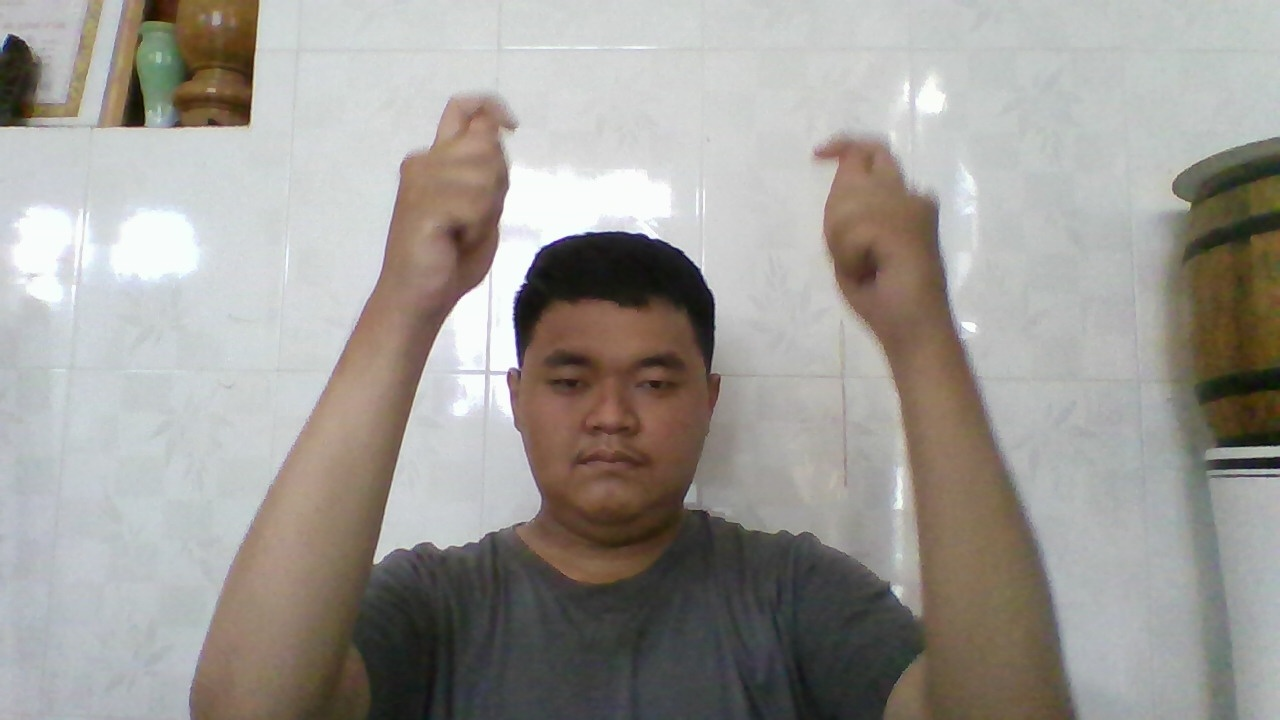X: (799, 129, 934, 358), (396, 86, 525, 315)
